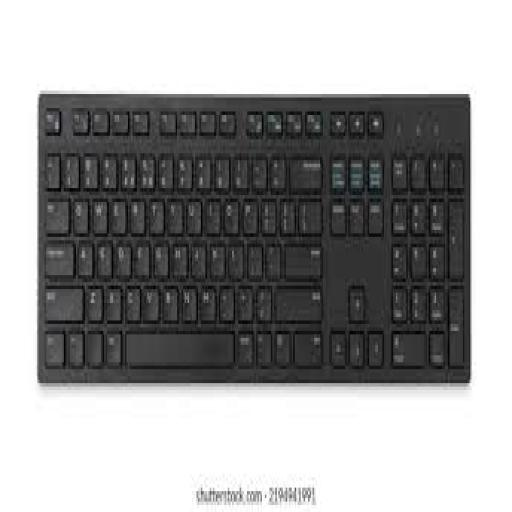KEYBOARD-2: (37, 94, 469, 380)
